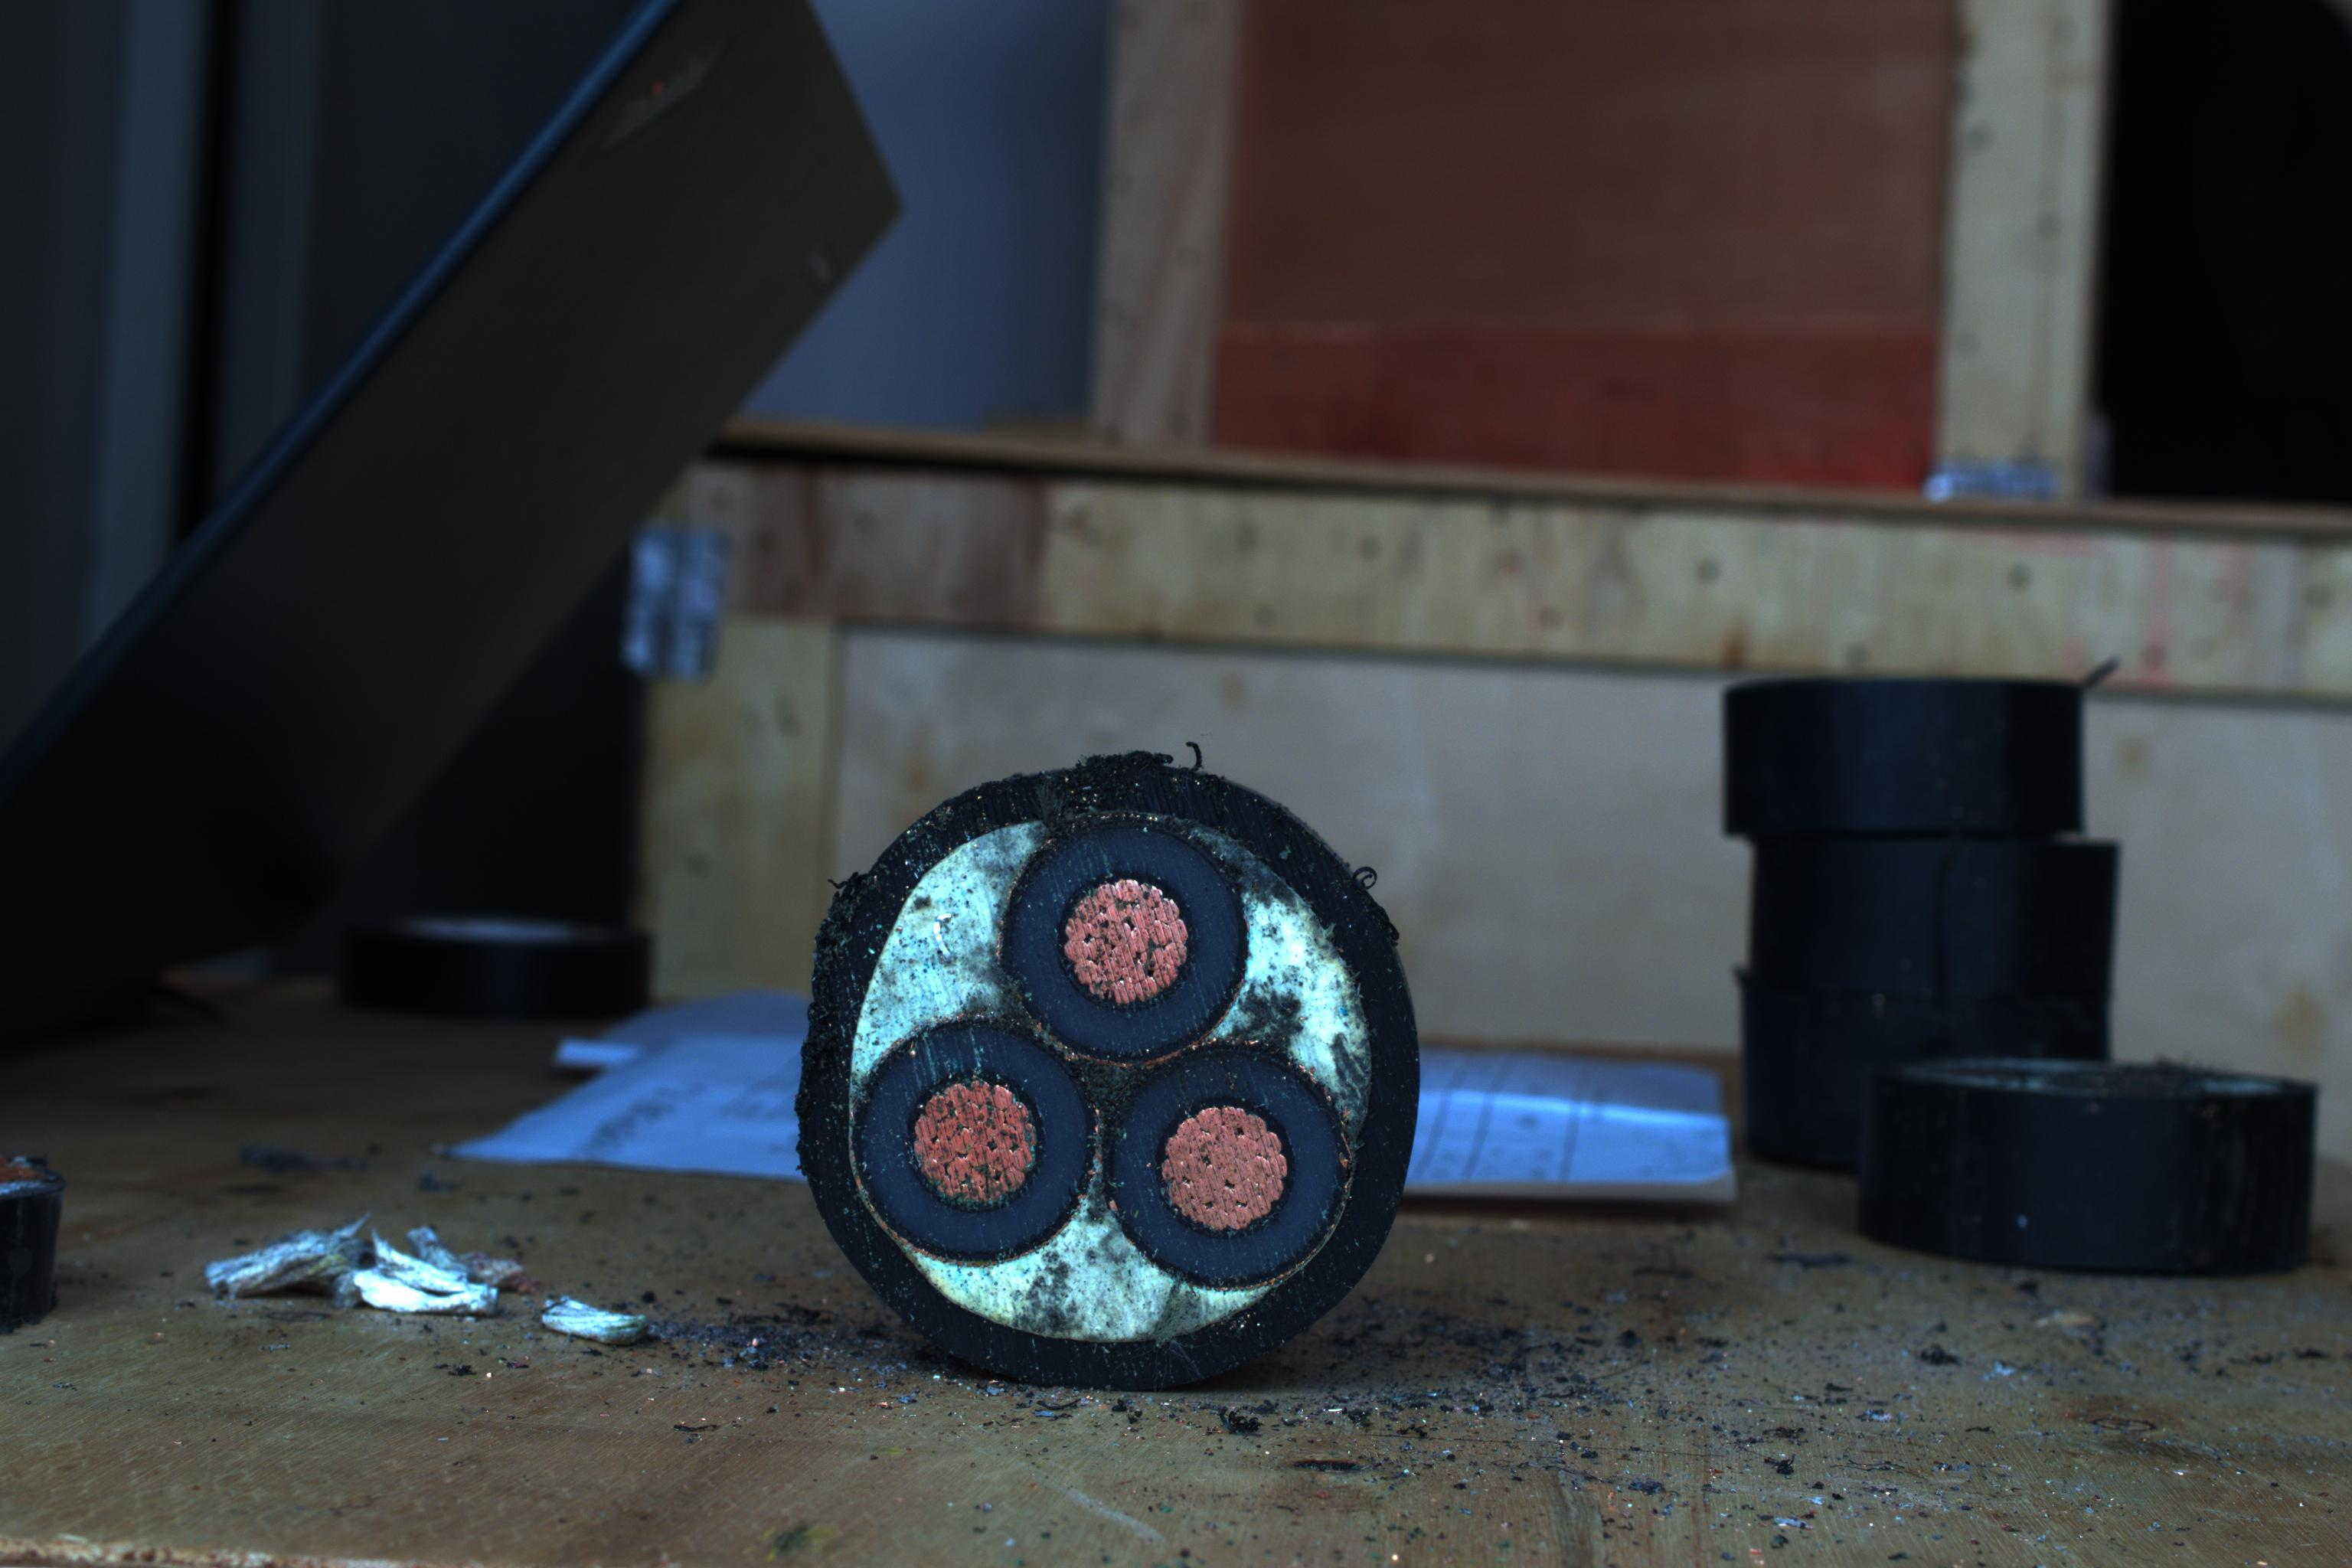ZA_YJV_8.7_10kV_3x120: (822, 772, 1417, 1347)
